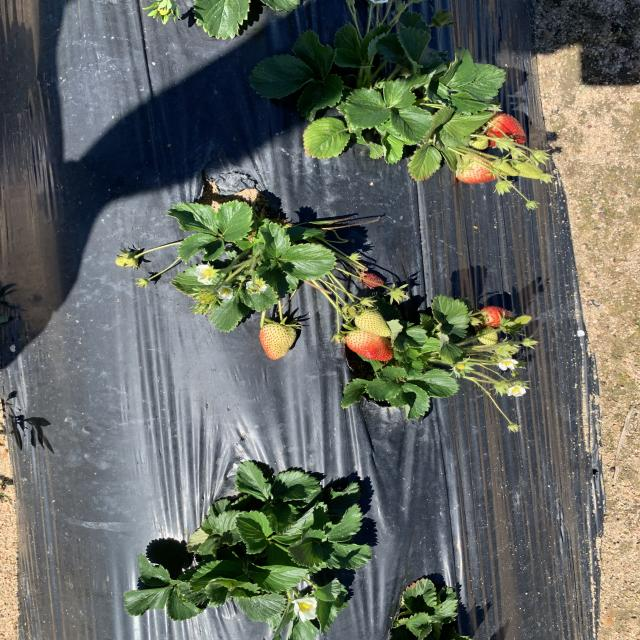unripe: (348, 326, 394, 360), (482, 114, 528, 145), (474, 306, 516, 327)
